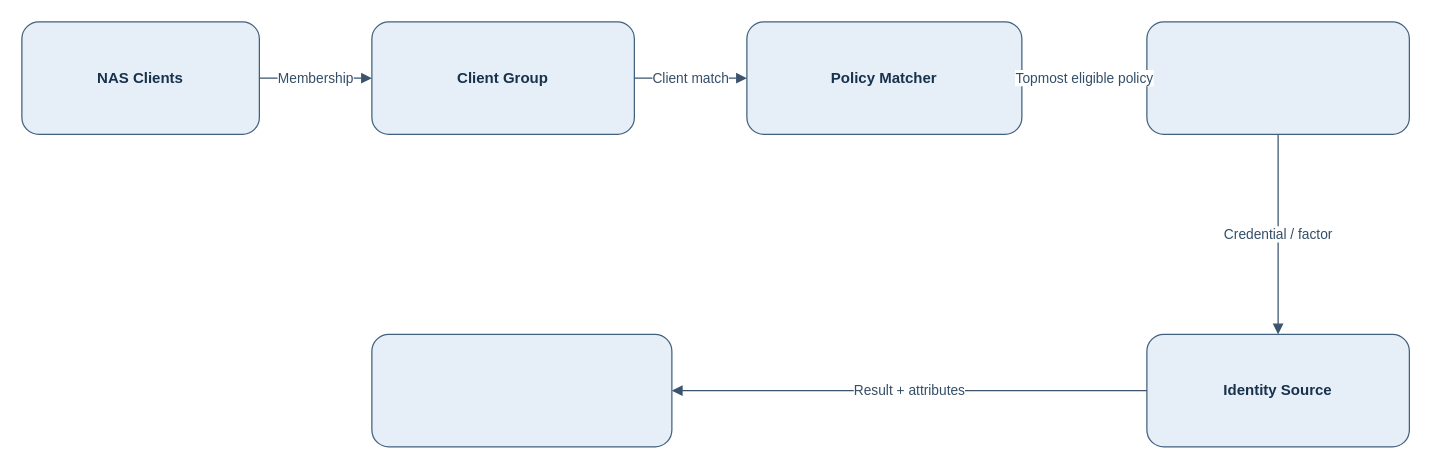
This 1431x469 diagram has some shape labels left out. The shapes that lost their labels are listed below. From the top down, each one's box as (x1, y1, x2, y2) in pixels, then its label:
(1146, 21, 1409, 134): Auth Profile
(371, 333, 672, 447): Access Accept / Reject
